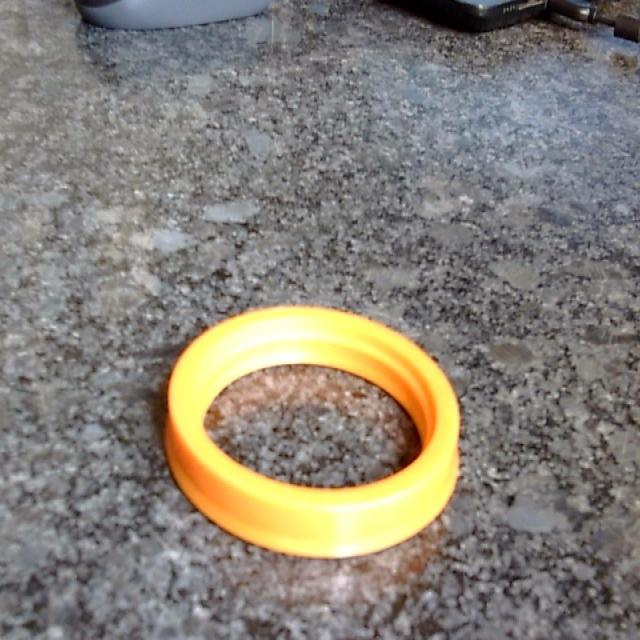orange-L-ring: (165, 307, 459, 558)
